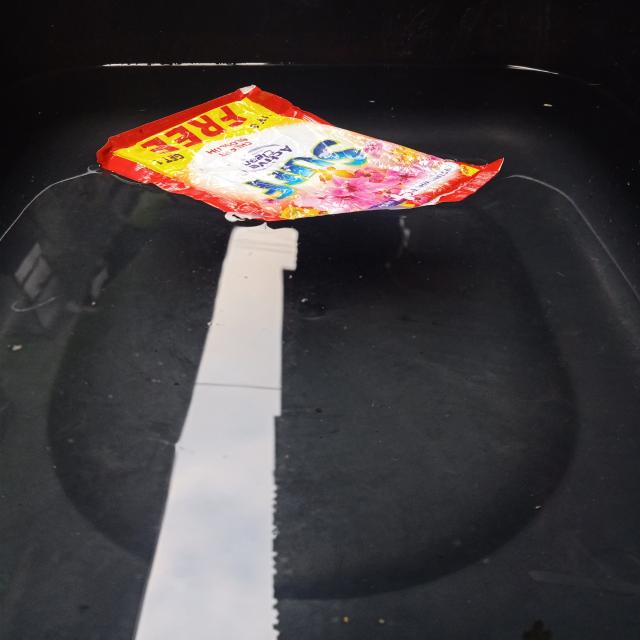Plastic Wrapper: (97, 85, 503, 220)
